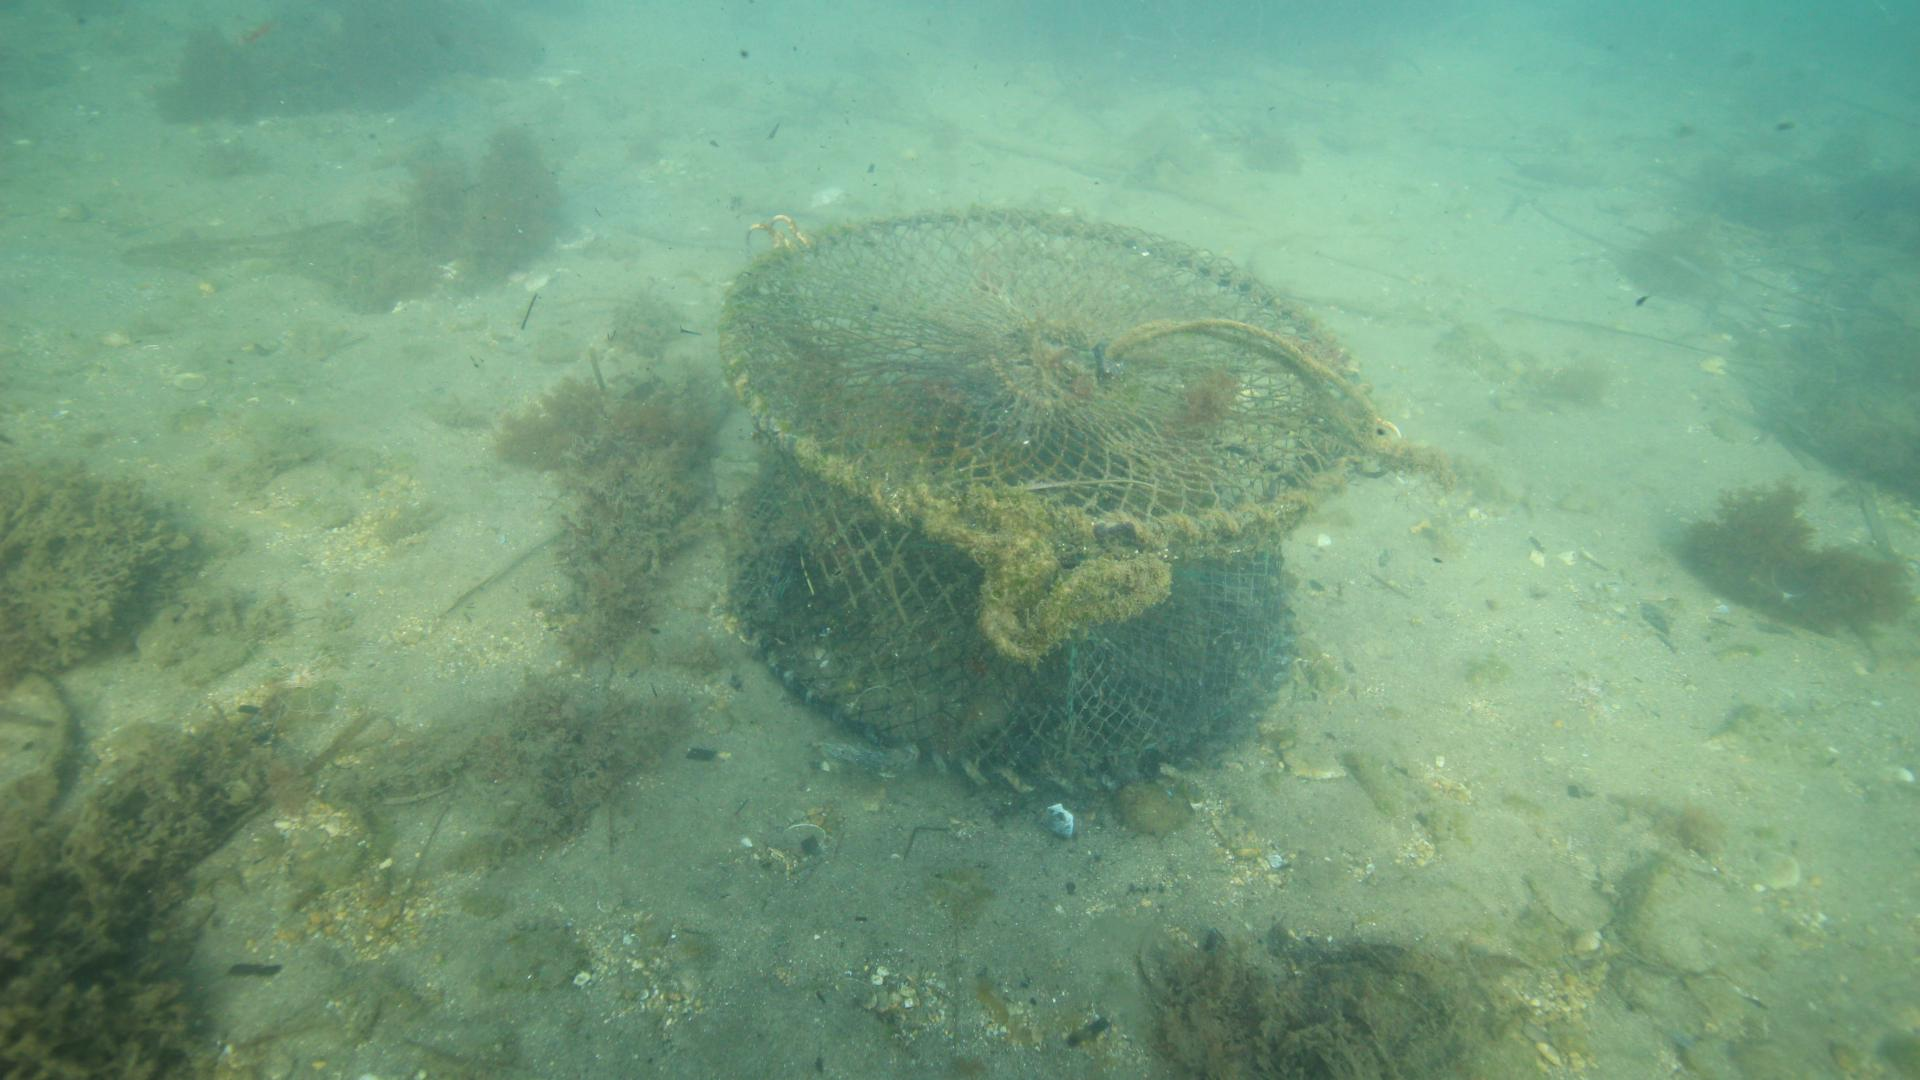circular fish trap: (717, 200, 1367, 795)
